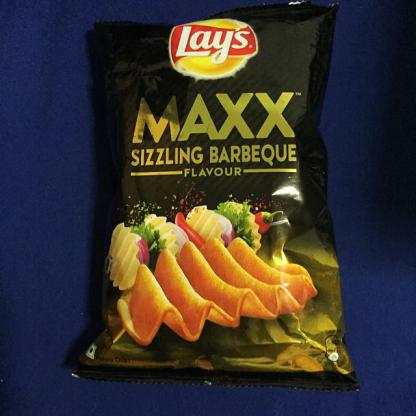maxx_sizzling_barbeque: (87, 14, 349, 379)
